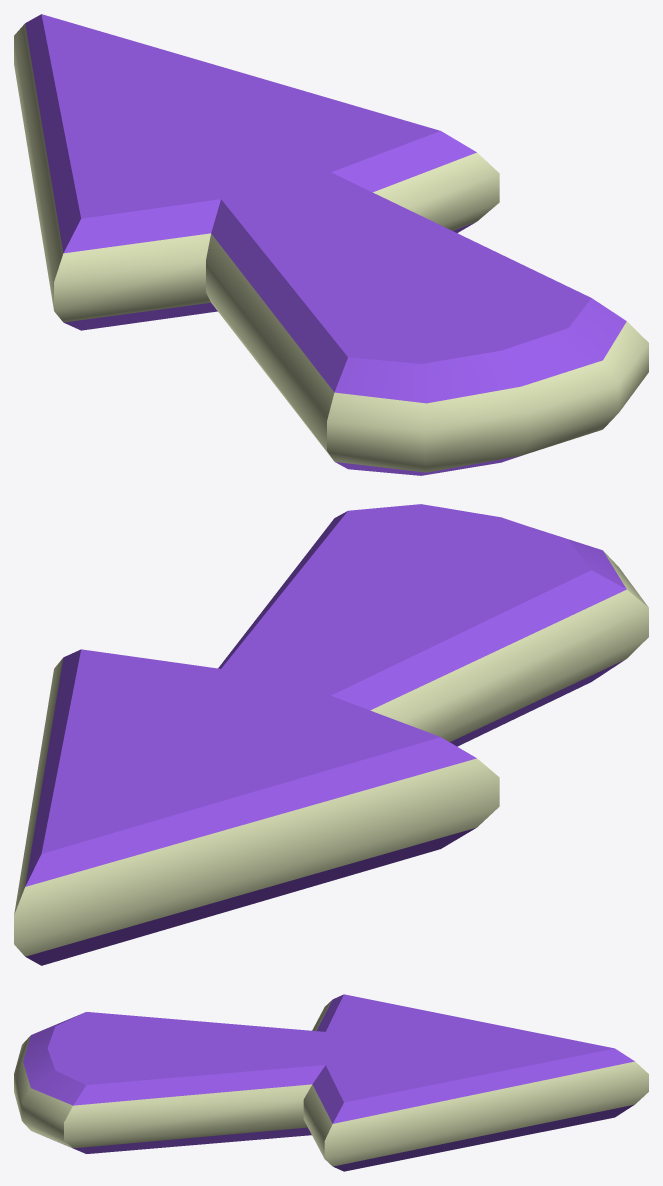
The model's file is ArrowObject.fbx.
3 views of the same model, one above another, from view 1: azimuth 30°, elevation 25°; view 2: azimuth 150°, elevation 25°; view 3: azimuth 270°, elevation 25° (orthographic). The views are drawn at different scales.
Visible parts, largest first — view 1: Arrow; view 2: Arrow; view 3: Arrow.
Boxes of the visible parts, box(x1,y1,x2,y2) form: Arrow: box(14, 14, 648, 475); Arrow: box(14, 504, 648, 965); Arrow: box(14, 994, 648, 1171).
Bounding box in the file's own units: 50 × 12 × 100.
